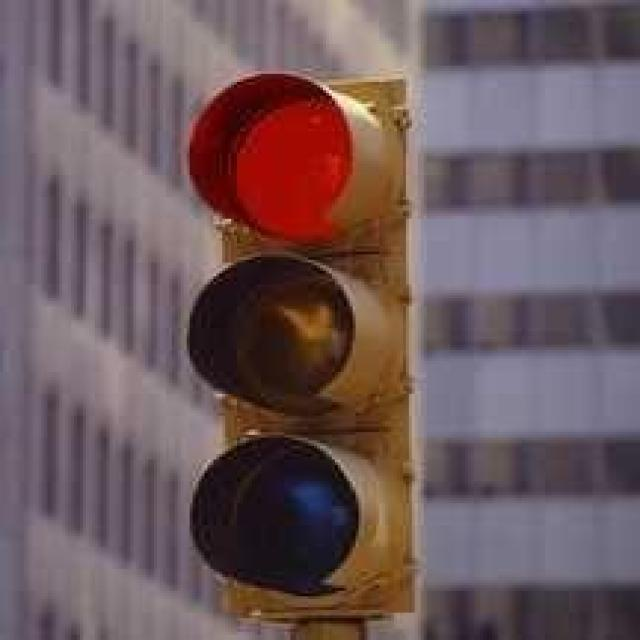Traffic Light -Red-: (172, 62, 424, 613)
